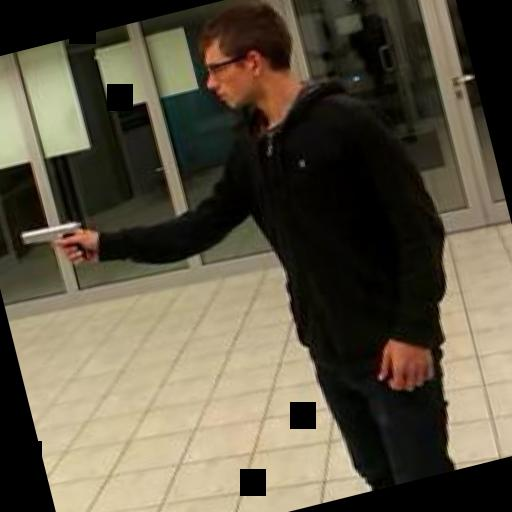Handgun: (12, 212, 93, 278)
